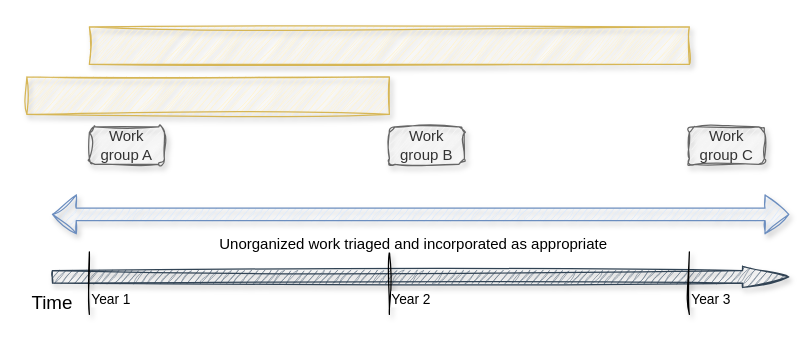
This 811x346 diagram has some shape labels left out. The shapes that lost their labels are listed below. From the top down, each one's centre as x and y in pixels, then its label:
(390,47): Workstream X
(209,97): Workstream Y
